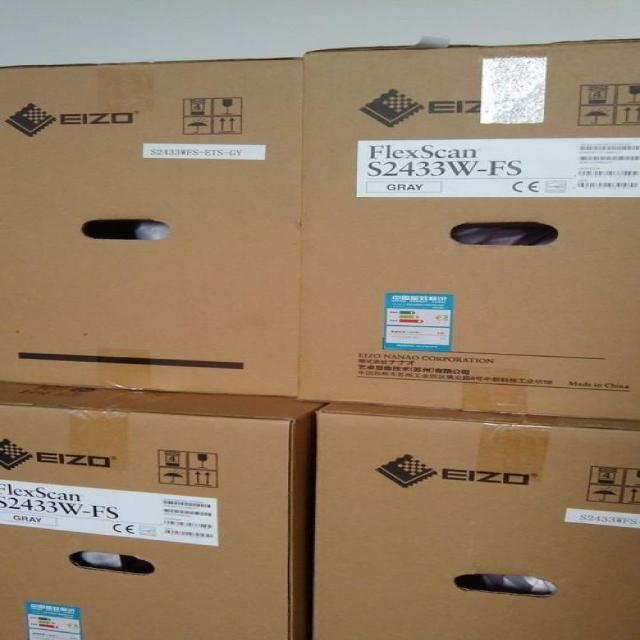box: (297, 38, 639, 421), (1, 57, 303, 397), (1, 381, 327, 639), (312, 402, 639, 639)
